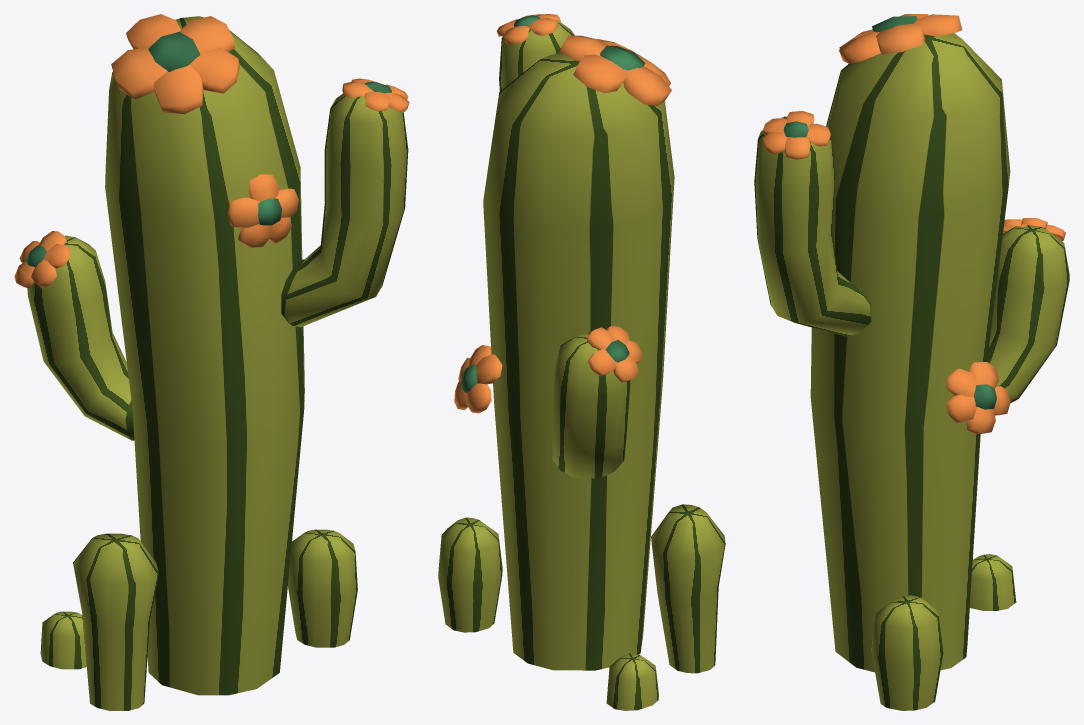
The model's file is BR_Cactus_1x2x1.fbx.
The picture shows the model from 3 angles, left to right: view 1: azimuth 30°, elevation 25°; view 2: azimuth 150°, elevation 25°; view 3: azimuth 270°, elevation 25°; orthographic projection. The views are drawn at different scales.
Parts seen in each view (by area): view 1: BR_Cactus_1x2x1; view 2: BR_Cactus_1x2x1; view 3: BR_Cactus_1x2x1.
Part boxes in pixels (left/top/right/bottom): BR_Cactus_1x2x1: left=14, top=14, right=409, bottom=710; BR_Cactus_1x2x1: left=438, top=14, right=725, bottom=710; BR_Cactus_1x2x1: left=754, top=14, right=1069, bottom=710.
Size of the model in its own units: 105 by 227 by 105.
